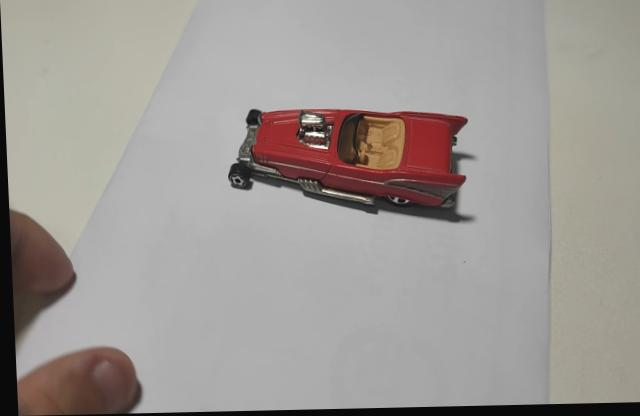03_V8: (227, 110, 470, 225)
